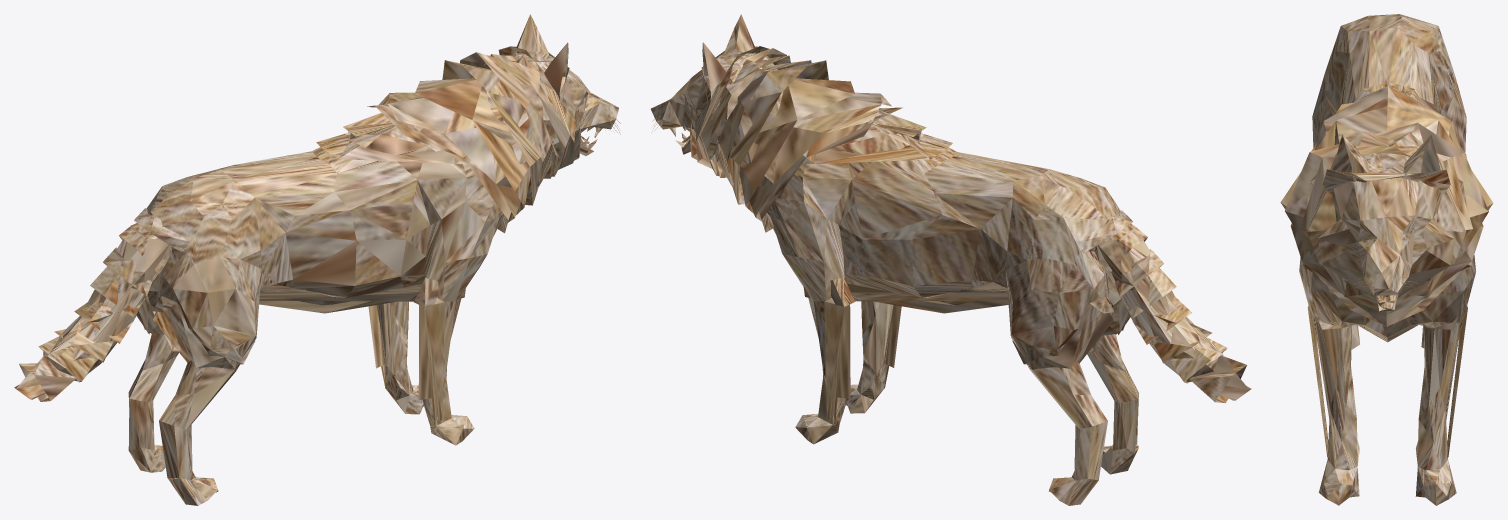
File: wolf.dae
3 views of the same model, side by side, from view 1: azimuth 30°, elevation 25°; view 2: azimuth 150°, elevation 25°; view 3: azimuth 270°, elevation 25° (orthographic). The views are drawn at different scales.
Parts seen in each view (by area): view 1: grp1; view 2: grp1; view 3: grp1, grp2.
Part boxes in pixels (box(x1,y1,x2,y2)): grp1: box(14, 14, 618, 505); grp1: box(651, 14, 1251, 505); grp1: box(1280, 14, 1493, 505); grp2: box(1347, 277, 1423, 308).
Bounding box in the file's own units: 2.28 × 0.5965 × 1.33.
Materials: 1 (1 with a texture image).
